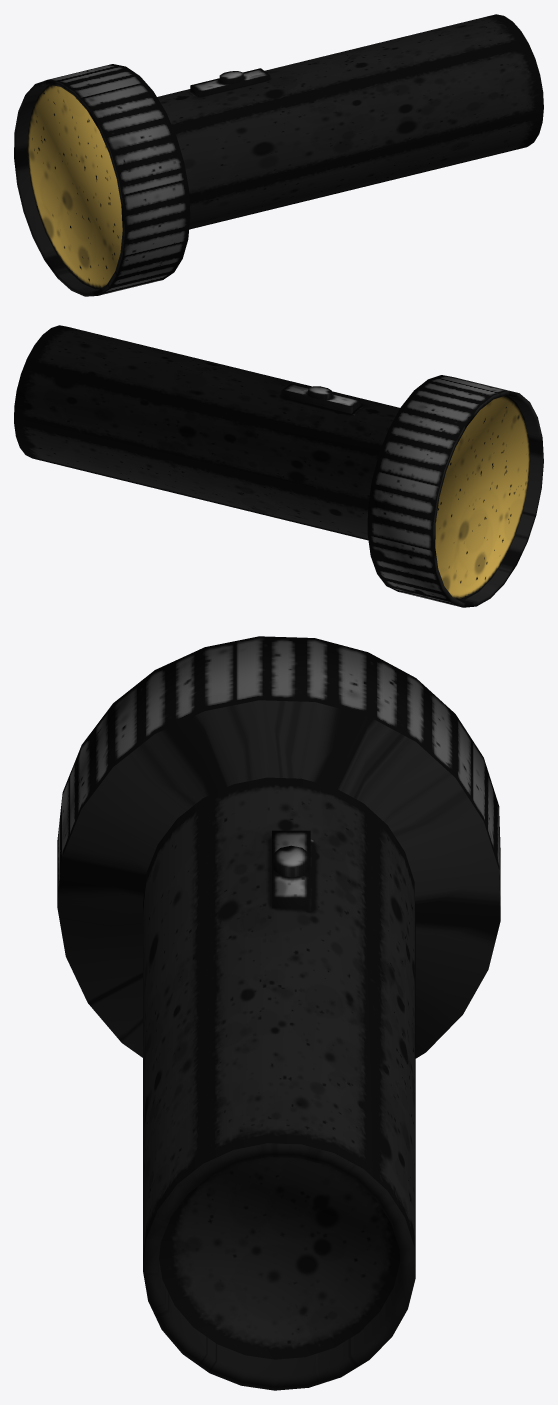
Rendered from flashlight.obj.
3 renders of one model, top to bottom at view 1: azimuth 30°, elevation 25°; view 2: azimuth 150°, elevation 25°; view 3: azimuth 270°, elevation 25°, orthographic. The views are drawn at different scales.
Parts seen in each view (by area): view 1: flashlisght; view 2: flashlisght; view 3: flashlisght.
Boxes of the visible parts, bbox=[...] form: flashlisght: bbox=[14, 14, 543, 296]; flashlisght: bbox=[14, 325, 543, 607]; flashlisght: bbox=[57, 636, 500, 1390].
Size of the model in its own units: 1.39 by 0.607 by 0.6069.
